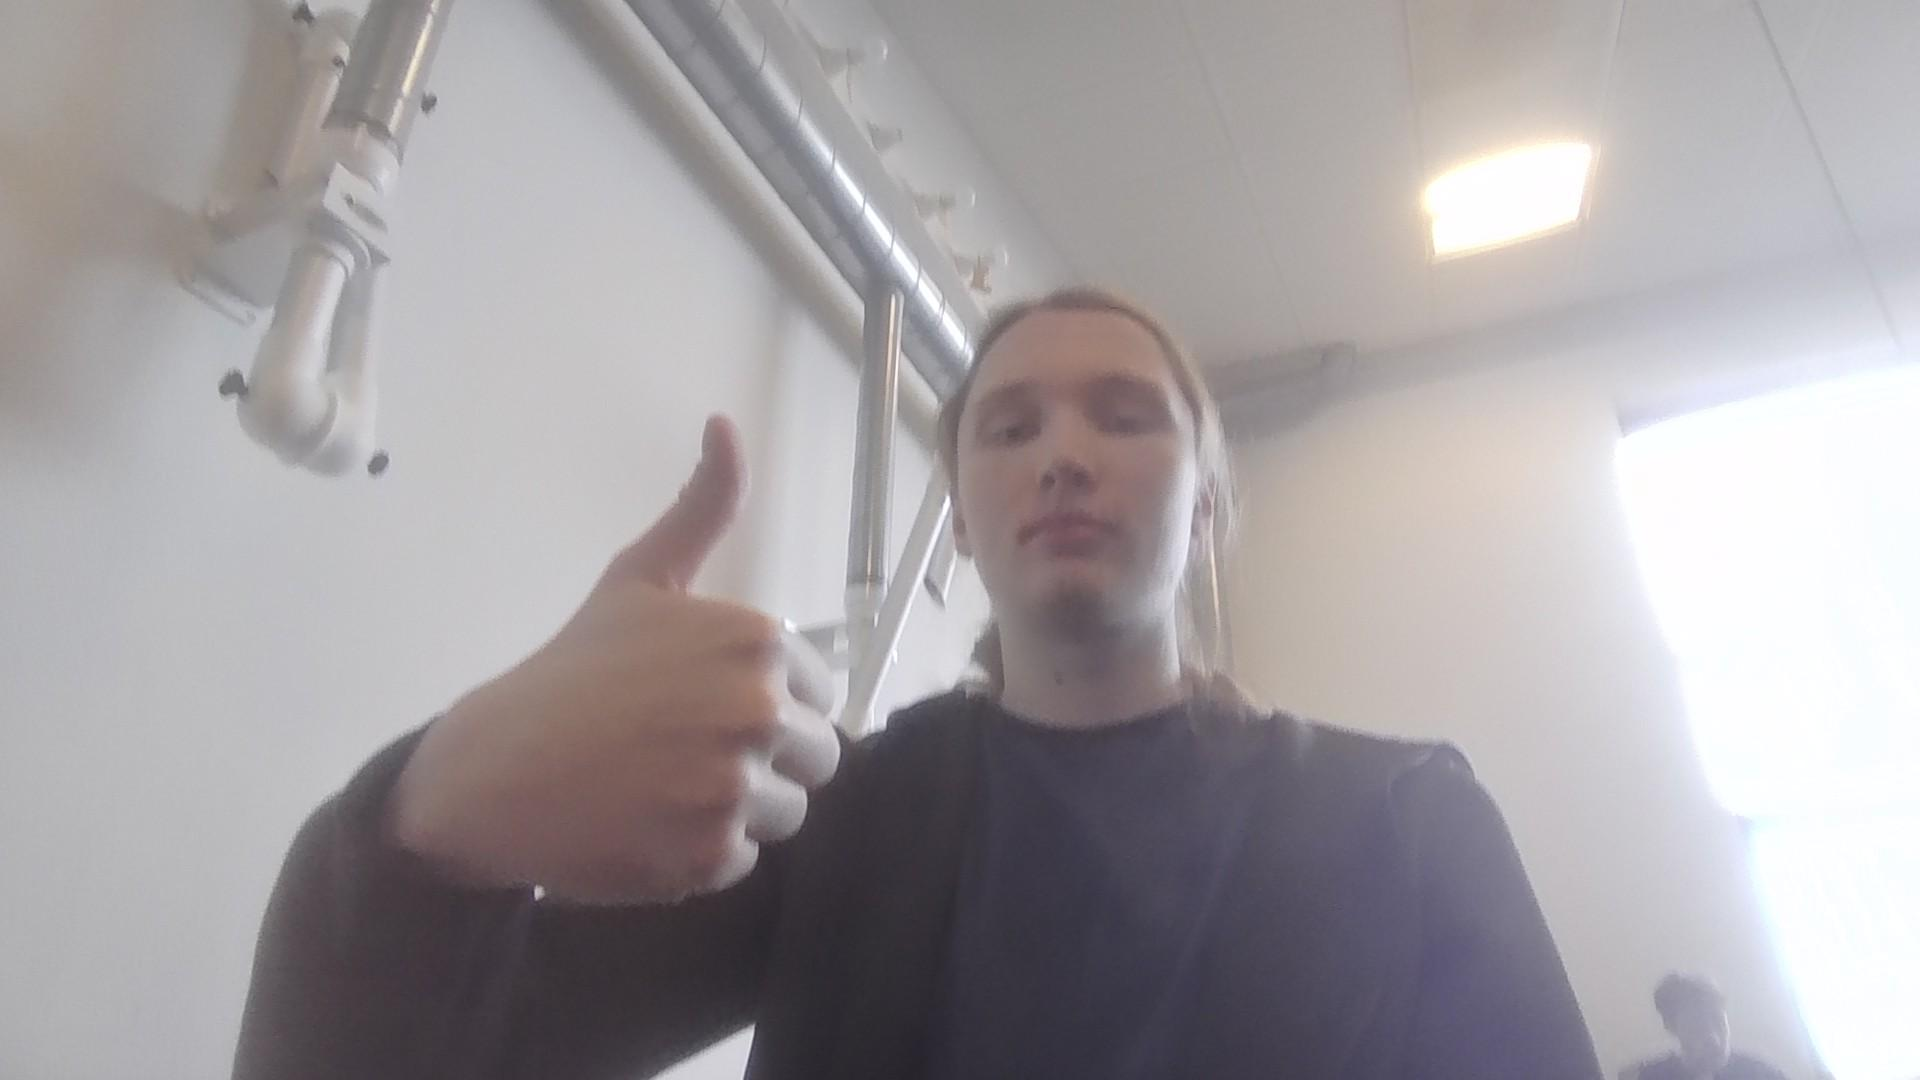thumbs up: (468, 404, 851, 911)
